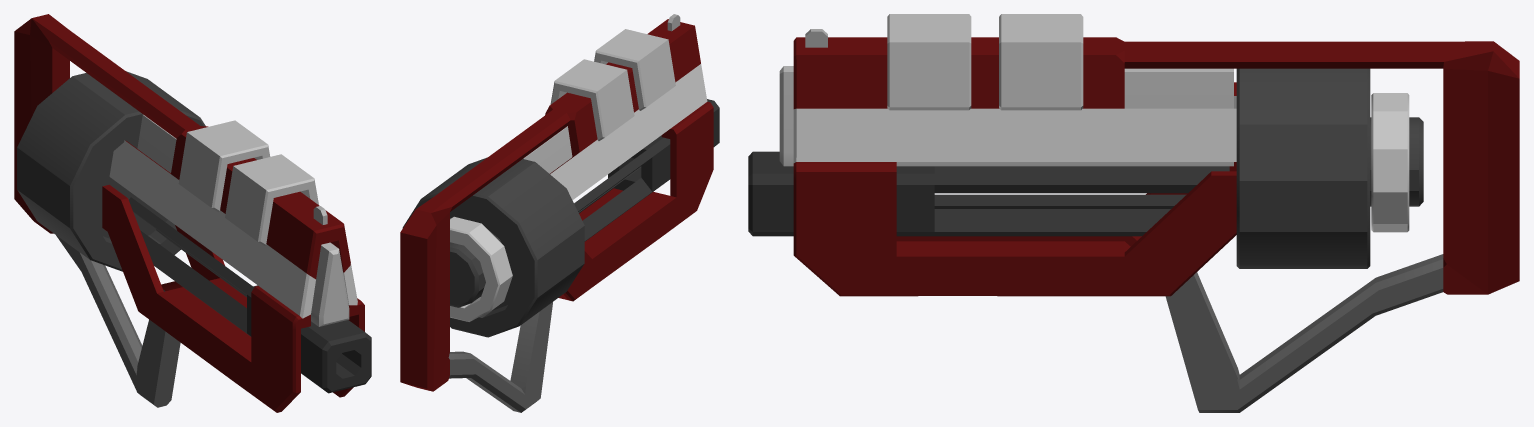
Rendered from sandan.fbx.
3 views of the same model, side by side, from view 1: azimuth 30°, elevation 25°; view 2: azimuth 150°, elevation 25°; view 3: azimuth 270°, elevation 25° (orthographic). The views are drawn at different scales.
Parts seen in each view (by area): view 1: polySurface1; view 2: polySurface1; view 3: polySurface1.
Part boxes in pixels (<box>): polySurface1: <box>14,14,371,412</box>; polySurface1: <box>400,14,719,412</box>; polySurface1: <box>748,14,1519,412</box>.
Size of the model in its own units: 1.93 by 3.88 by 7.09.
